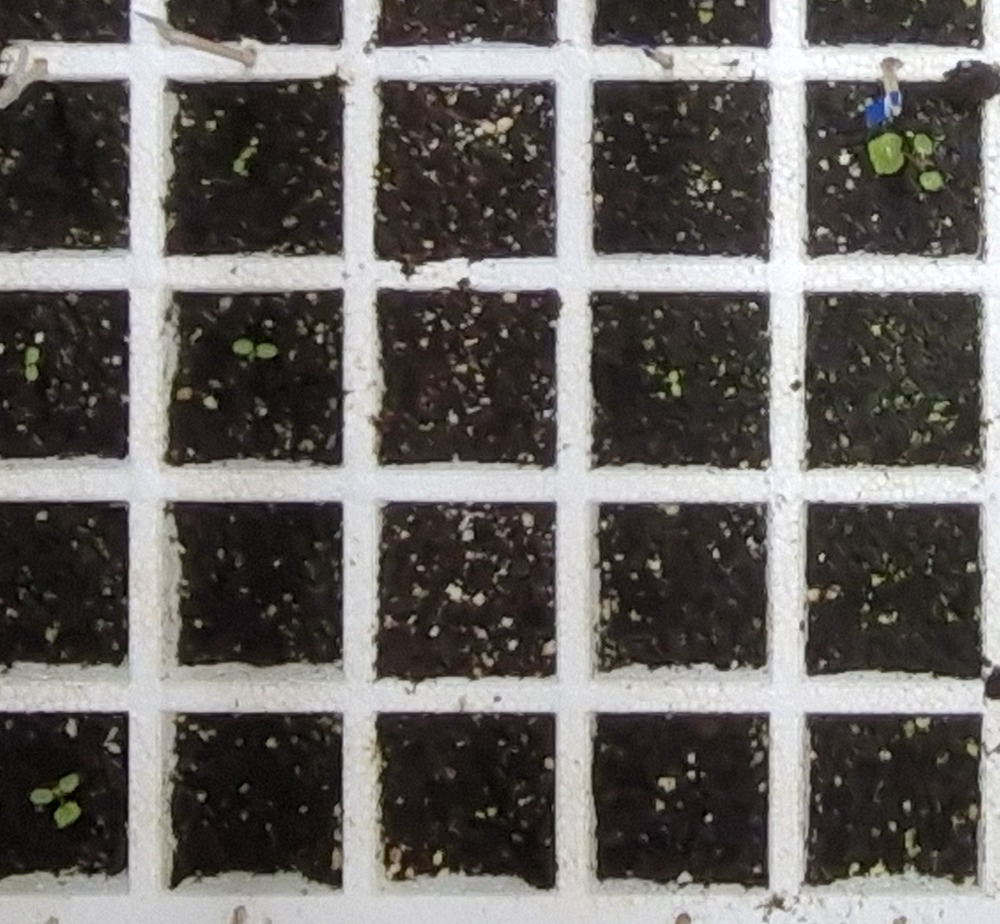Folha: (869, 134, 903, 173), (56, 802, 81, 826), (920, 171, 943, 190), (59, 774, 78, 793), (915, 136, 933, 154), (256, 342, 277, 357), (31, 789, 52, 804), (234, 340, 253, 353), (26, 364, 39, 380), (27, 349, 39, 364), (241, 148, 251, 159), (235, 159, 243, 172)
Germinacao: (869, 133, 943, 190), (28, 773, 83, 829), (234, 339, 277, 357), (26, 346, 41, 379), (234, 146, 251, 172), (667, 370, 681, 396)
